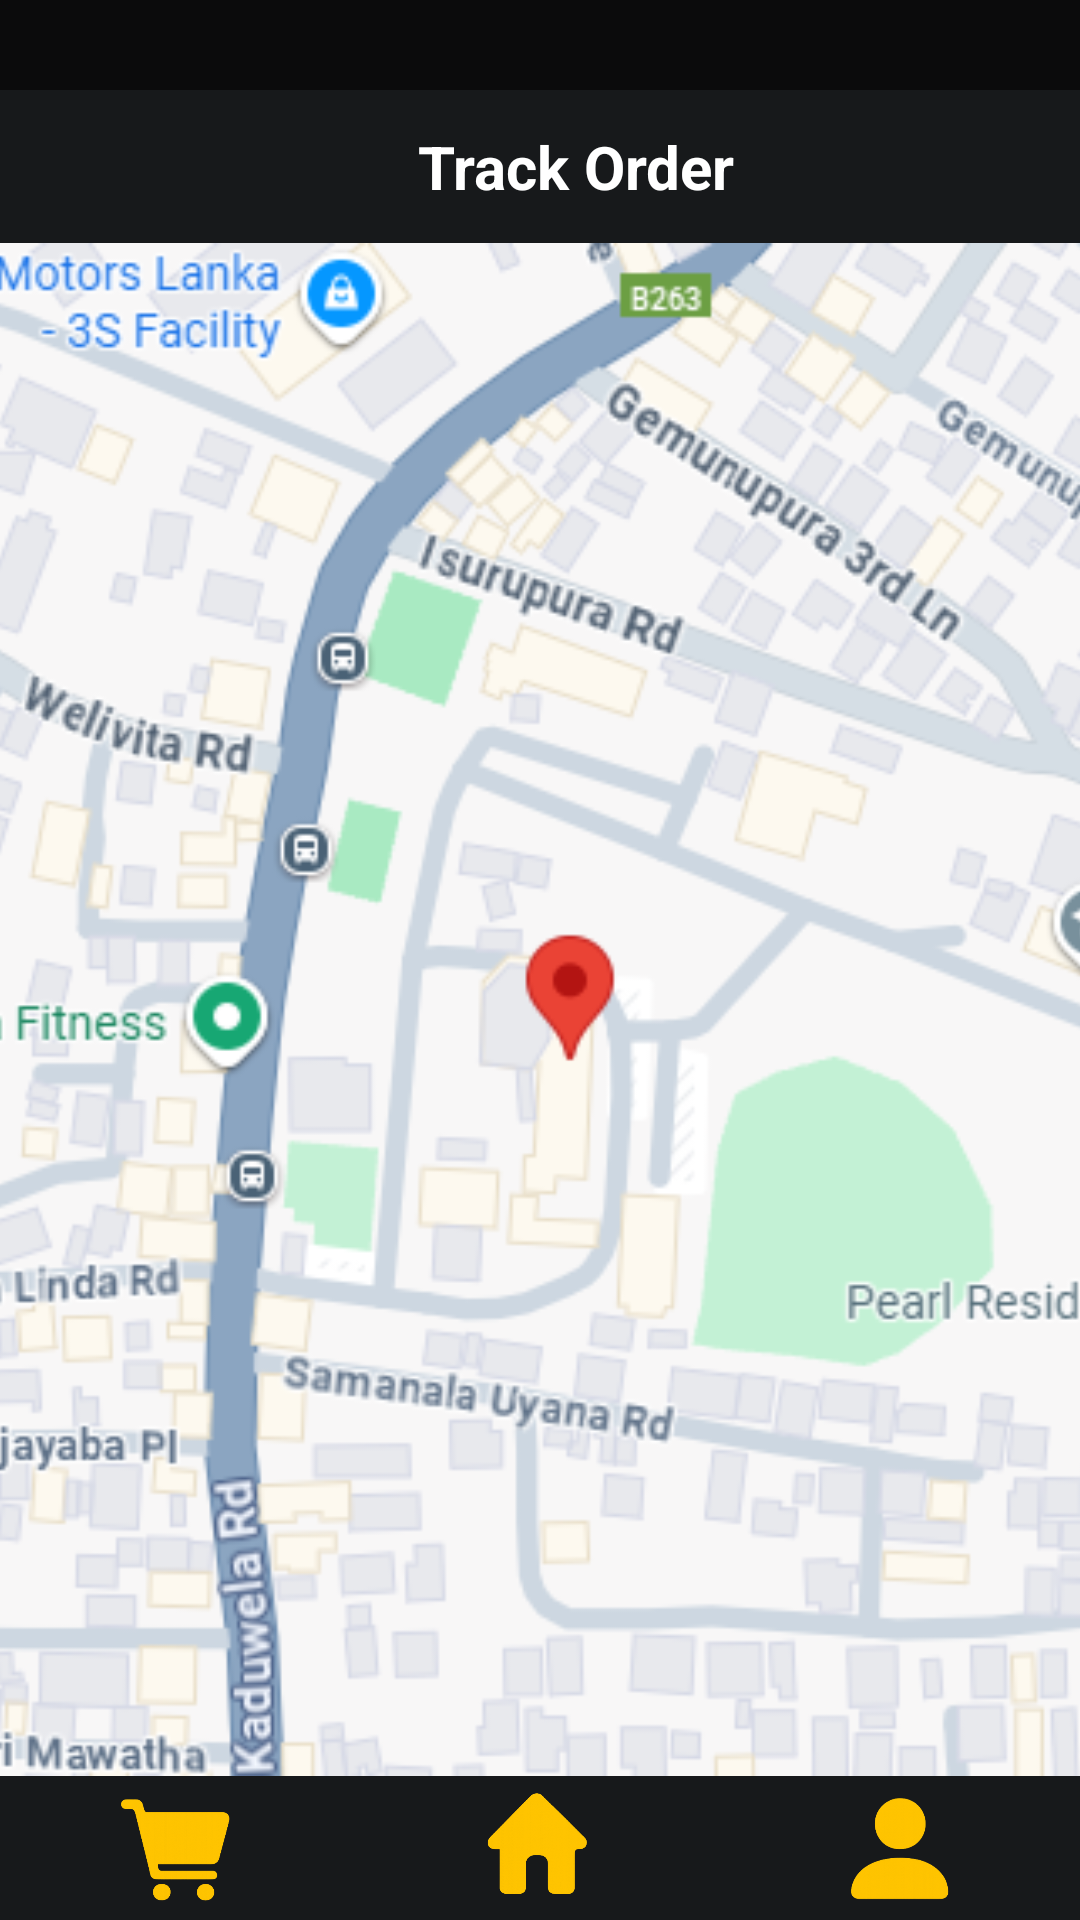

Locate icon controls on the screen. Image size 1080 × 1920, boxes as (x1, y1, x2, y2).
Cart: (121, 1799, 230, 1901)
Home: (488, 1793, 587, 1894)
Profile: (851, 1798, 949, 1899)
